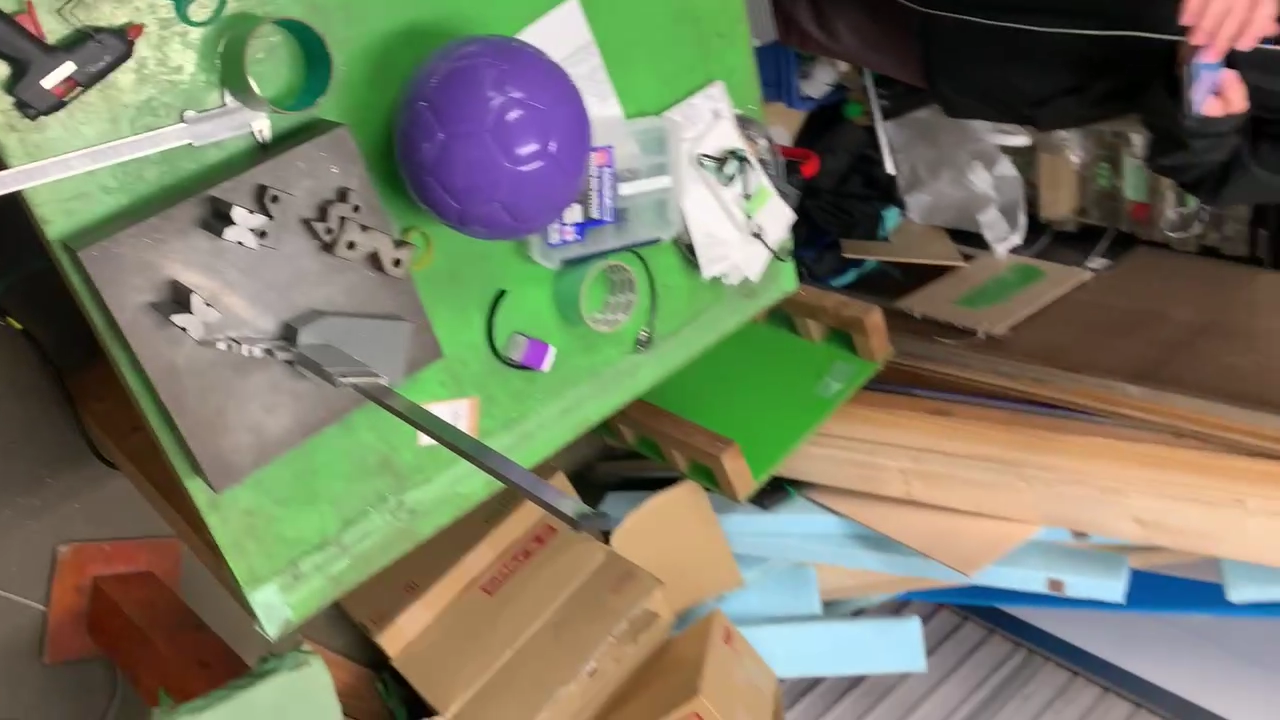purple: (388, 42, 587, 241)
